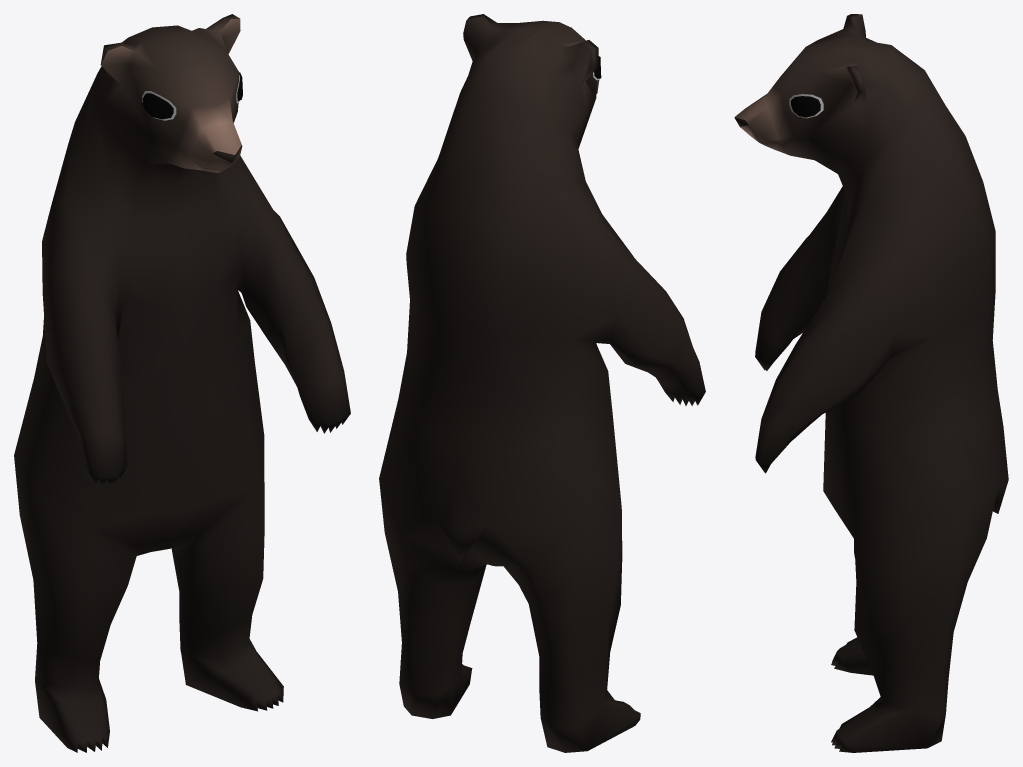
The model's file is BrownBear1.gltf.
3 renders of one model, left to right at view 1: azimuth 30°, elevation 25°; view 2: azimuth 150°, elevation 25°; view 3: azimuth 270°, elevation 25°, orthographic. The views are drawn at different scales.
Visible parts, largest first — view 1: alt576; view 2: alt576; view 3: alt576.
Boxes of the visible parts, box(x1,y1,x2,y2) form: alt576: box(14, 14, 350, 752); alt576: box(379, 14, 705, 752); alt576: box(734, 14, 1008, 752).
Bounding box in the file's own units: 0.9693 × 2.47 × 0.9269.
